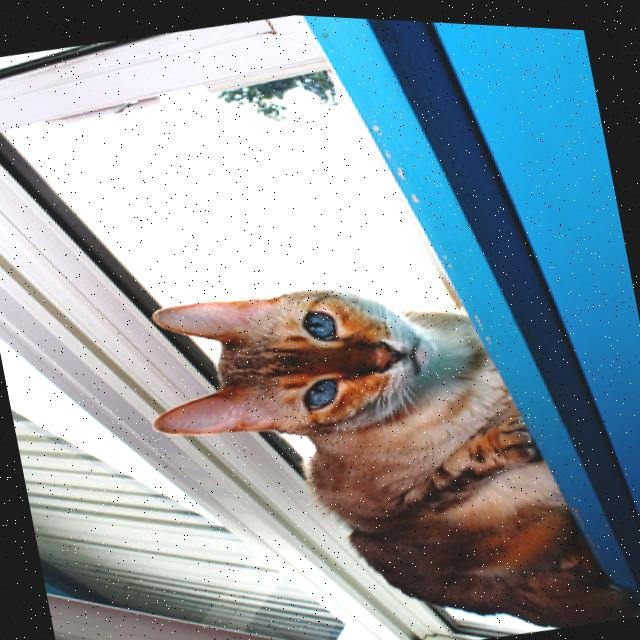Bengal: (126, 204, 640, 640)
